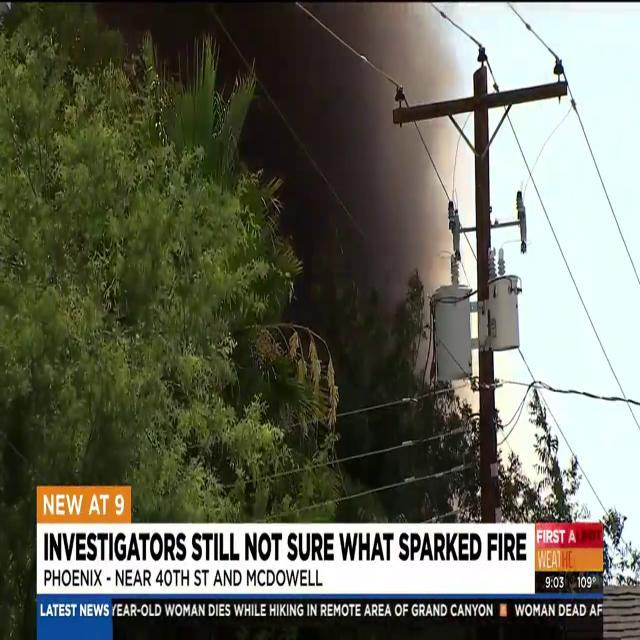Smoke: (286, 2, 460, 354)
